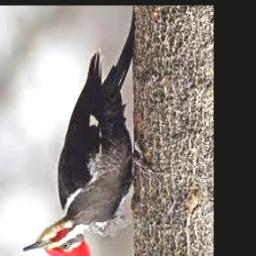Woodpecker: (24, 8, 163, 256)
